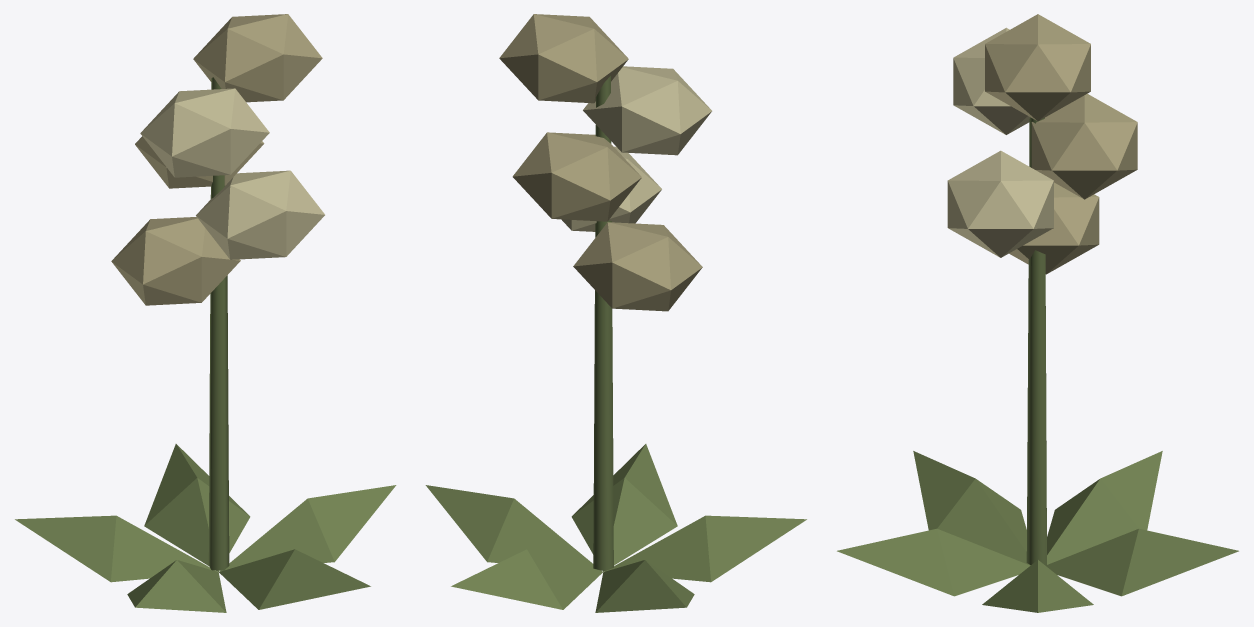
File: plant-spike.glb
3 views of the same model, side by side, from view 1: azimuth 30°, elevation 25°; view 2: azimuth 150°, elevation 25°; view 3: azimuth 270°, elevation 25° (orthographic). The views are drawn at different scales.
Parts seen in each view (by area): view 1: plant-spike; view 2: plant-spike; view 3: plant-spike.
Boxes of the visible parts, x1=… form: plant-spike: x1=15, y1=14, x2=396, y2=612; plant-spike: x1=425, y1=14, x2=806, y2=612; plant-spike: x1=837, y1=14, x2=1238, y2=612.
Bounding box in the file's own units: 0.6151 × 0.9881 × 0.6467.
